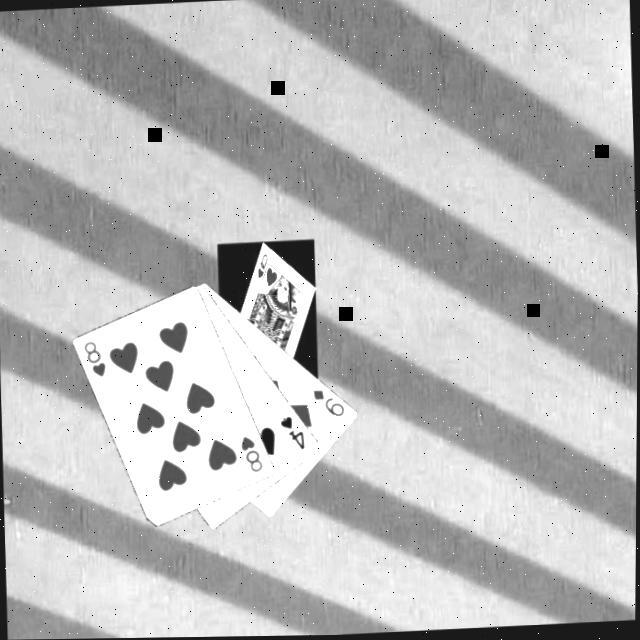4S: (276, 415, 306, 456)
8H: (236, 434, 265, 478), (79, 340, 108, 382)
9D: (308, 387, 347, 422)
